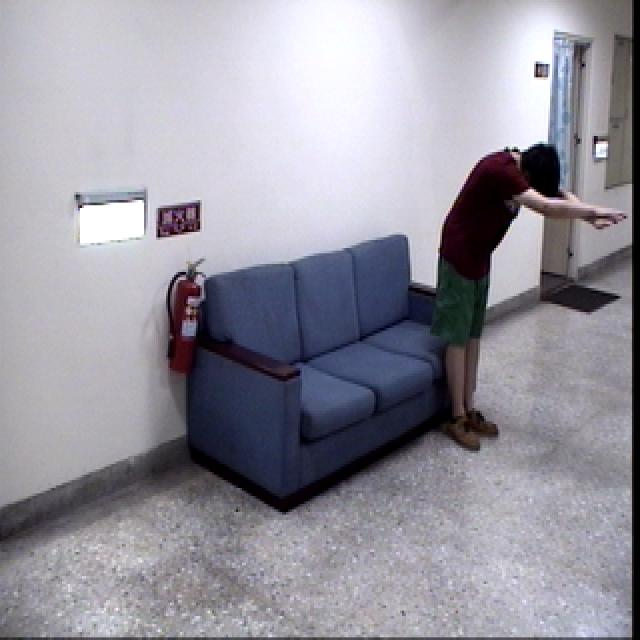bend: (432, 132, 624, 457)
